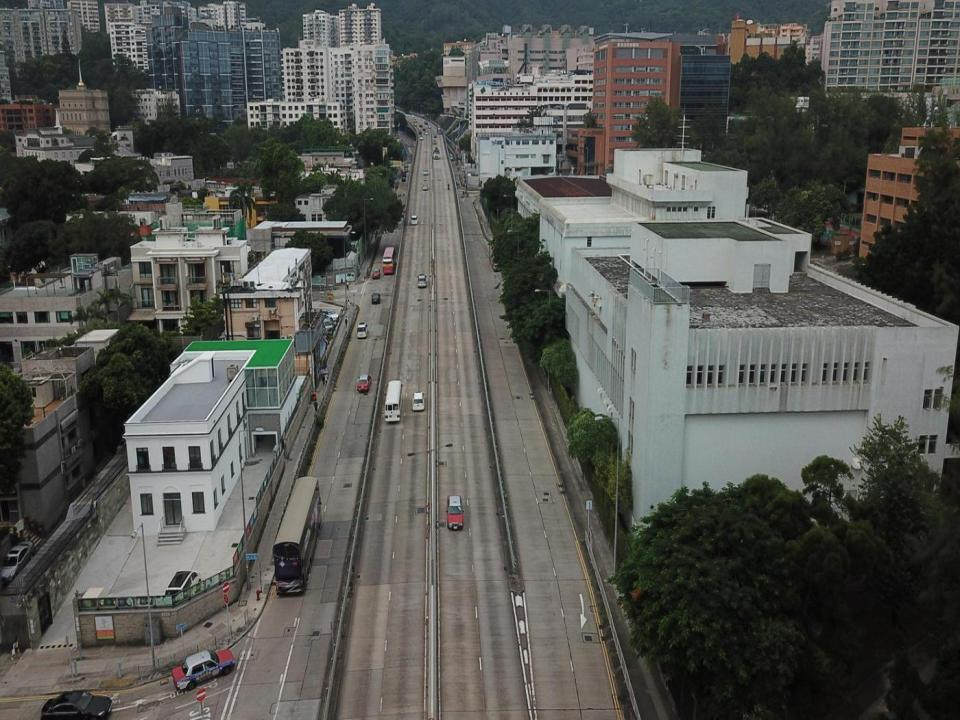bus: (273, 475, 322, 595), (385, 379, 403, 422), (489, 240, 507, 272), (383, 247, 396, 274), (403, 164, 409, 172), (413, 118, 417, 122)
car: (172, 650, 235, 690), (41, 690, 112, 719), (0, 541, 34, 584), (446, 494, 464, 530), (357, 374, 371, 393), (412, 391, 425, 410), (322, 308, 338, 322), (371, 292, 381, 305), (372, 267, 380, 280), (422, 183, 428, 190), (423, 168, 428, 175), (401, 176, 405, 182), (402, 172, 406, 177), (432, 139, 436, 144), (422, 127, 426, 131), (433, 133, 437, 137), (420, 135, 423, 140), (411, 114, 415, 117), (413, 123, 417, 126), (419, 123, 422, 127), (418, 131, 422, 134), (428, 124, 431, 128)
truck: (433, 146, 439, 159), (437, 125, 441, 134)
van: (314, 315, 333, 337), (357, 322, 368, 338), (417, 274, 428, 287), (410, 215, 418, 224), (450, 154, 453, 160), (425, 130, 428, 134), (424, 121, 428, 124)
